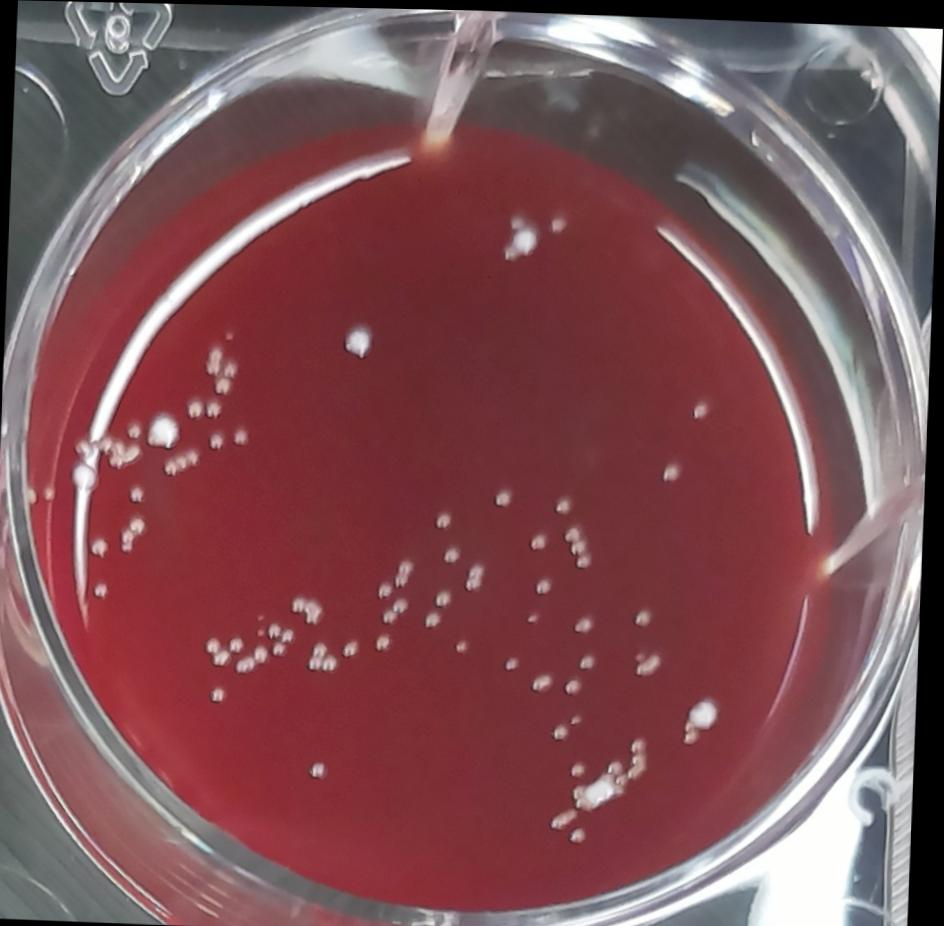staphylo-: (562, 520, 597, 572), (289, 589, 331, 624), (162, 449, 205, 480), (307, 638, 342, 675), (121, 515, 151, 557), (267, 619, 299, 656), (107, 441, 146, 471), (203, 634, 236, 668), (383, 593, 413, 626), (661, 455, 689, 488), (631, 732, 651, 778), (634, 649, 666, 676), (467, 559, 492, 593), (492, 482, 520, 508), (552, 805, 580, 830), (422, 604, 448, 630), (394, 557, 417, 586), (553, 488, 577, 515), (432, 507, 457, 532), (529, 529, 553, 555), (206, 343, 225, 375), (531, 670, 556, 694), (533, 574, 557, 598), (127, 481, 152, 504), (232, 423, 257, 446), (91, 535, 113, 561), (443, 543, 467, 566), (183, 398, 207, 421), (434, 583, 459, 605), (683, 718, 704, 744), (342, 634, 364, 658), (310, 757, 331, 781), (236, 654, 260, 675), (633, 604, 657, 625), (574, 611, 597, 632), (454, 633, 476, 654), (502, 651, 522, 674), (253, 641, 271, 666), (547, 211, 568, 232), (553, 719, 573, 741), (375, 631, 395, 652), (92, 579, 111, 601), (692, 396, 712, 416), (524, 605, 545, 624), (209, 431, 228, 452), (499, 243, 520, 262), (75, 439, 96, 458), (210, 684, 229, 704), (230, 634, 249, 654), (567, 676, 587, 695), (609, 756, 628, 776), (222, 359, 240, 380), (208, 397, 225, 419), (580, 649, 599, 668), (572, 756, 589, 777), (215, 377, 233, 396), (377, 579, 395, 597), (573, 825, 590, 842), (508, 213, 526, 229), (128, 422, 144, 438), (573, 709, 587, 723)
